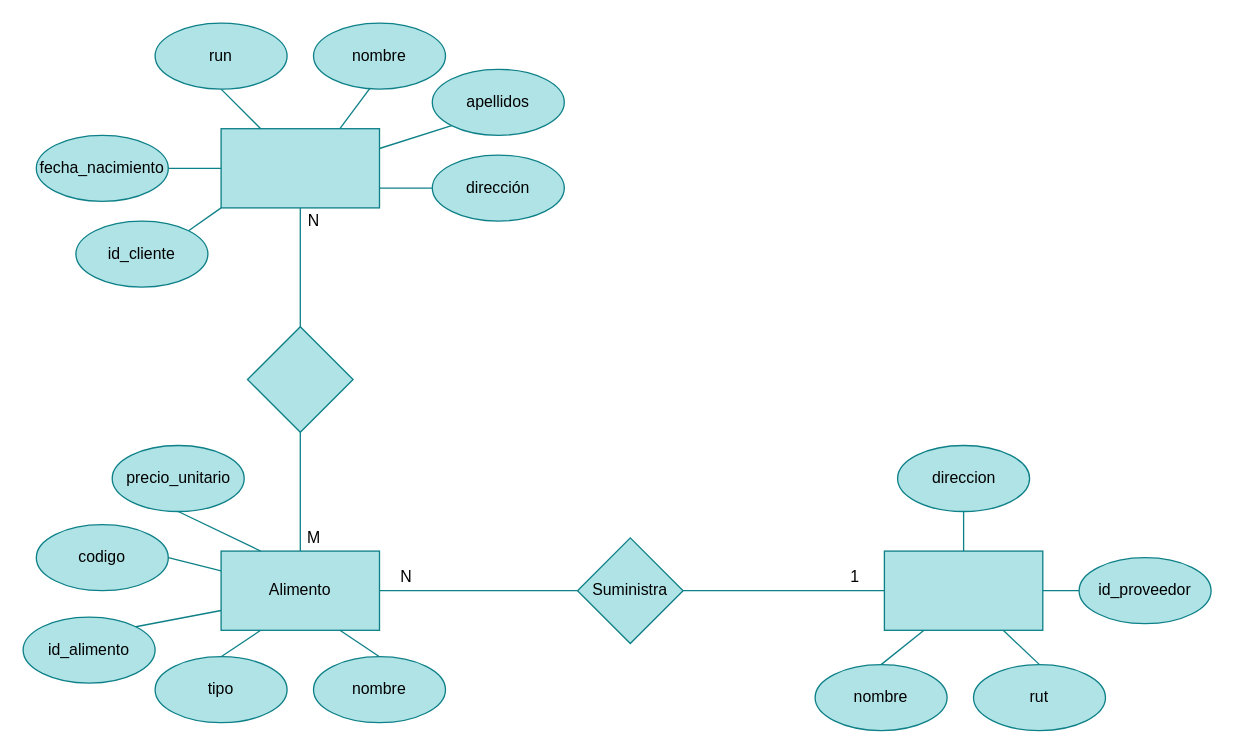
Image size: 1234x754. Some labels were removed from this diagram. The centre of each missing label's shape, as x and y in pixels:
"Cliente" belongs at [300,167].
"Compra" belongs at [299,378].
"Proveedor" belongs at [963,590].
